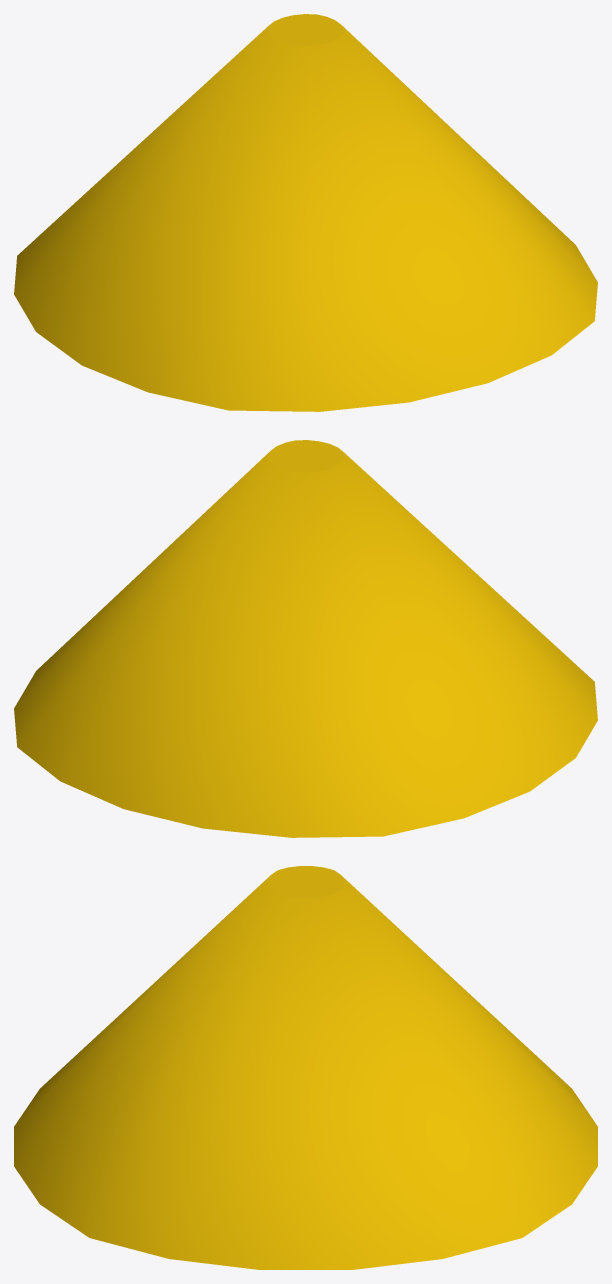
Rendered from cone-yellow.gltf.
3 renders of one model, top to bottom at view 1: azimuth 30°, elevation 25°; view 2: azimuth 150°, elevation 25°; view 3: azimuth 270°, elevation 25°, orthographic. The views are drawn at different scales.
Visible parts, largest first — view 1: cone-yellow; view 2: cone-yellow; view 3: cone-yellow.
Part boxes in pixels (x1,y1,x2,y2): cone-yellow: (14, 14, 597, 411); cone-yellow: (14, 440, 597, 837); cone-yellow: (14, 866, 597, 1269).
Size of the model in its own units: 1 by 0.5023 by 1.
